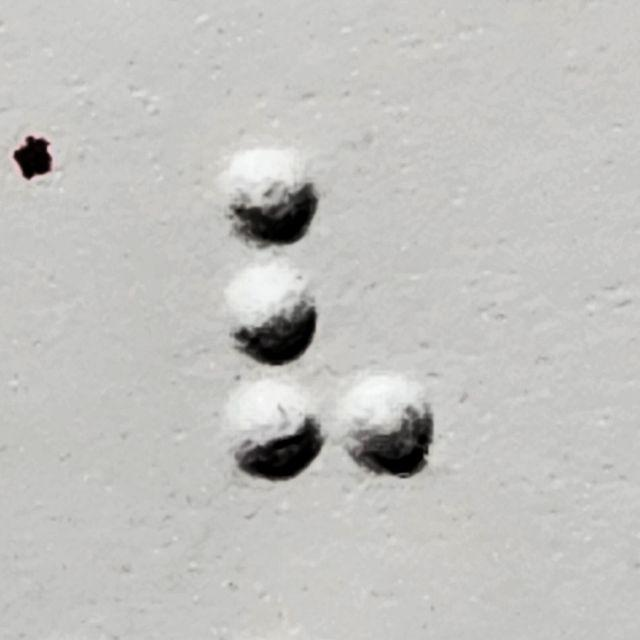v: (222, 146, 437, 481)
